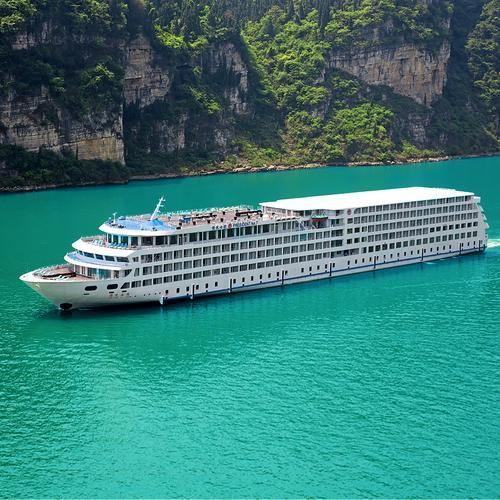Ship: (23, 187, 494, 296)
